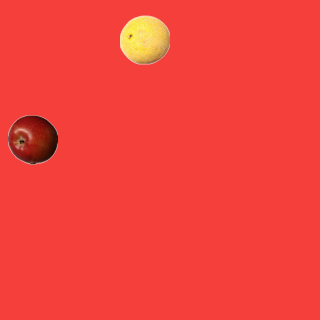Apple Braeburn: (7, 114, 57, 164)
Cantaloupe 1: (119, 14, 169, 64)
